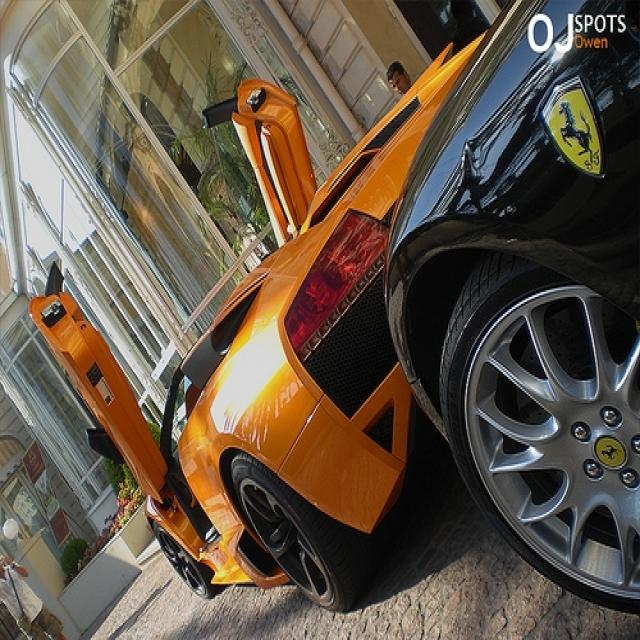ferrari: (540, 76, 605, 177)
